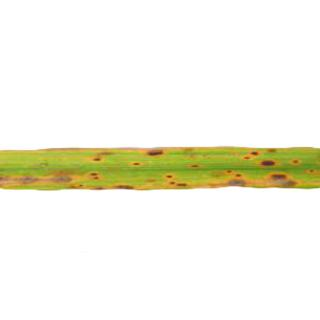bercak-Cokelat: (234, 147, 278, 169), (283, 156, 320, 176), (158, 174, 192, 190), (137, 144, 169, 158), (185, 162, 211, 174), (86, 171, 109, 183), (263, 172, 291, 180), (126, 160, 142, 168)
